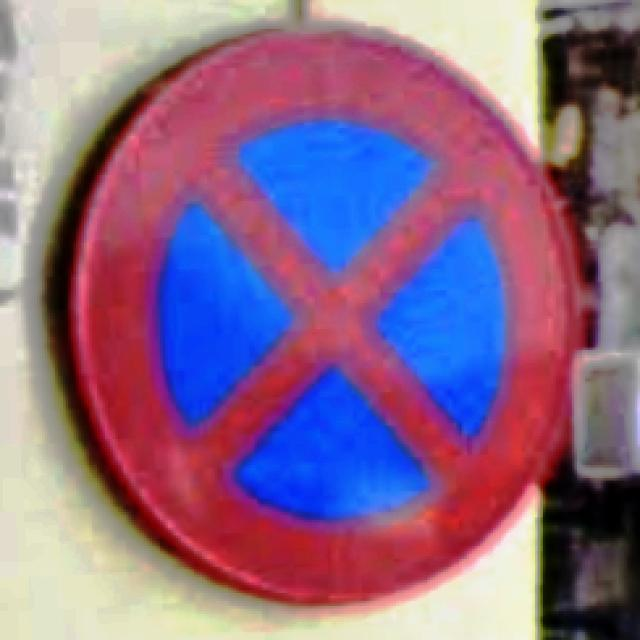nopark: (71, 29, 585, 609)
